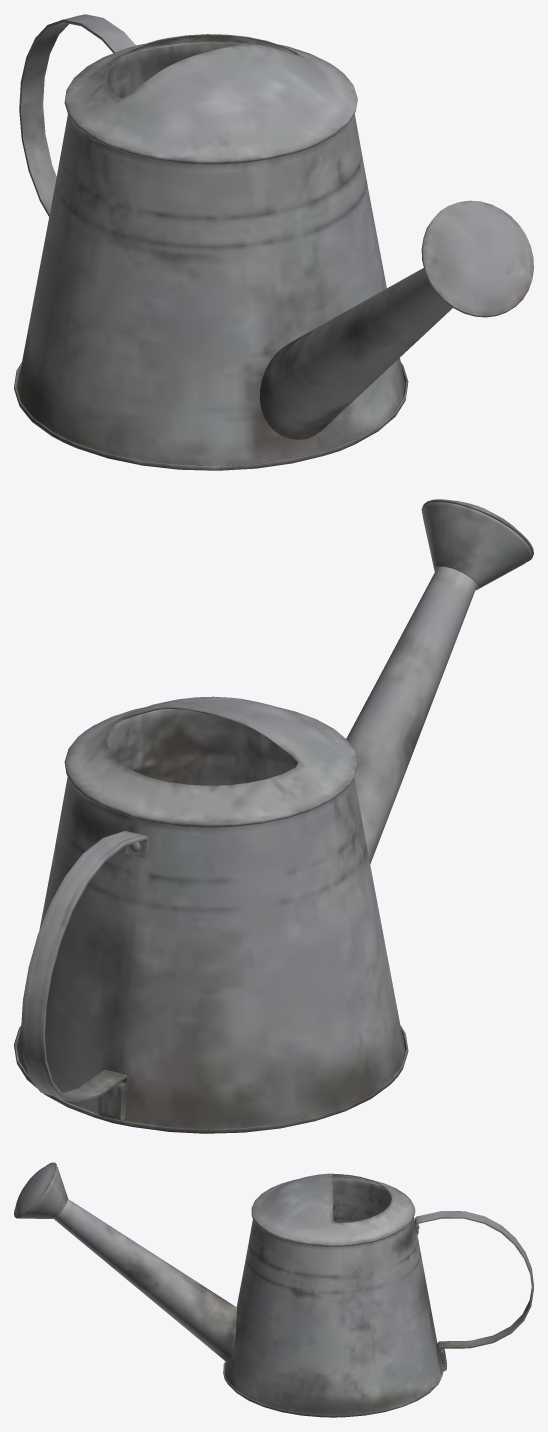
The model's file is watering-can.glb.
3 renders of one model, top to bottom at view 1: azimuth 30°, elevation 25°; view 2: azimuth 150°, elevation 25°; view 3: azimuth 270°, elevation 25°, orthographic. The views are drawn at different scales.
Visible parts, largest first — view 1: watering_can_metal_01; view 2: watering_can_metal_01; view 3: watering_can_metal_01.
Part boxes in pixels (x1=…): watering_can_metal_01: x1=14, y1=14, x2=533, y2=470; watering_can_metal_01: x1=14, y1=499, x2=533, y2=1133; watering_can_metal_01: x1=14, y1=1162, x2=533, y2=1417.
Size of the model in its own units: 0.191 by 0.1968 by 0.4523.
Materials: 1 (1 with a texture image).
